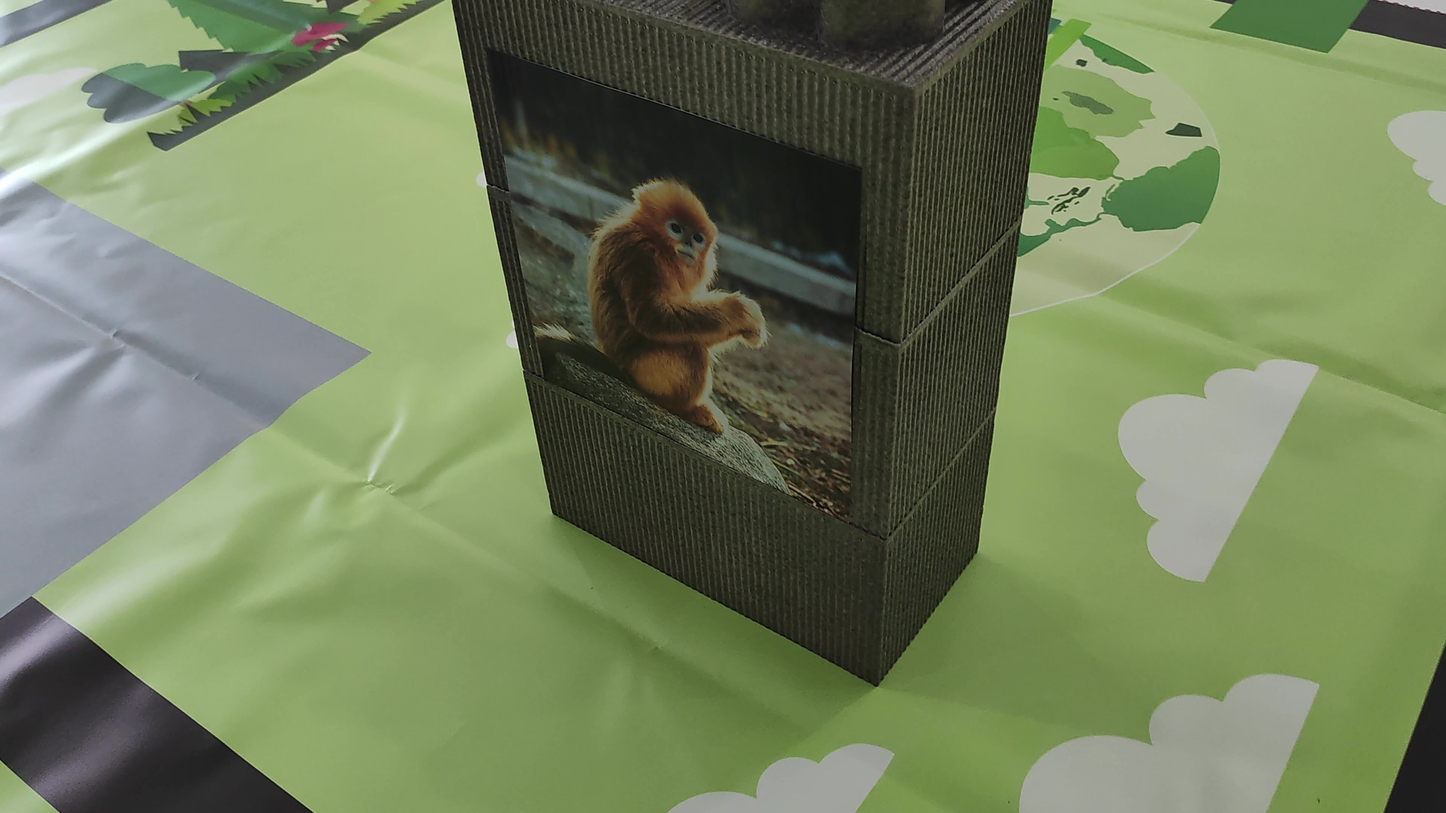monkey: (520, 126, 793, 444)
